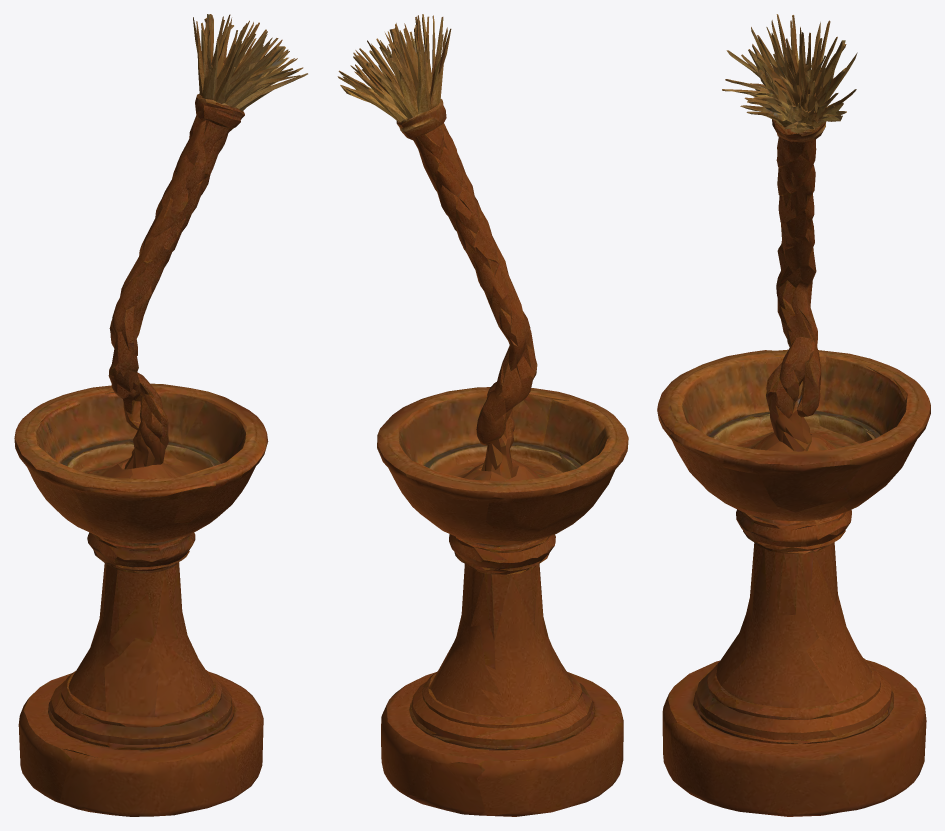
The model's file is lamp.glb.
The picture shows the model from 3 angles, left to right: view 1: azimuth 30°, elevation 25°; view 2: azimuth 150°, elevation 25°; view 3: azimuth 270°, elevation 25°; orthographic projection. The views are drawn at different scales.
Parts seen in each view (by area): view 1: mesh_node; view 2: mesh_node; view 3: mesh_node.
Boxes of the visible parts, x1=… form: mesh_node: x1=14, y1=14, x2=307, y2=816; mesh_node: x1=337, y1=14, x2=628, y2=816; mesh_node: x1=657, y1=14, x2=930, y2=816.
Bounding box in the file's own units: 0.7372 × 1.9 × 0.6024.
Materials: 1 (1 with a texture image).
